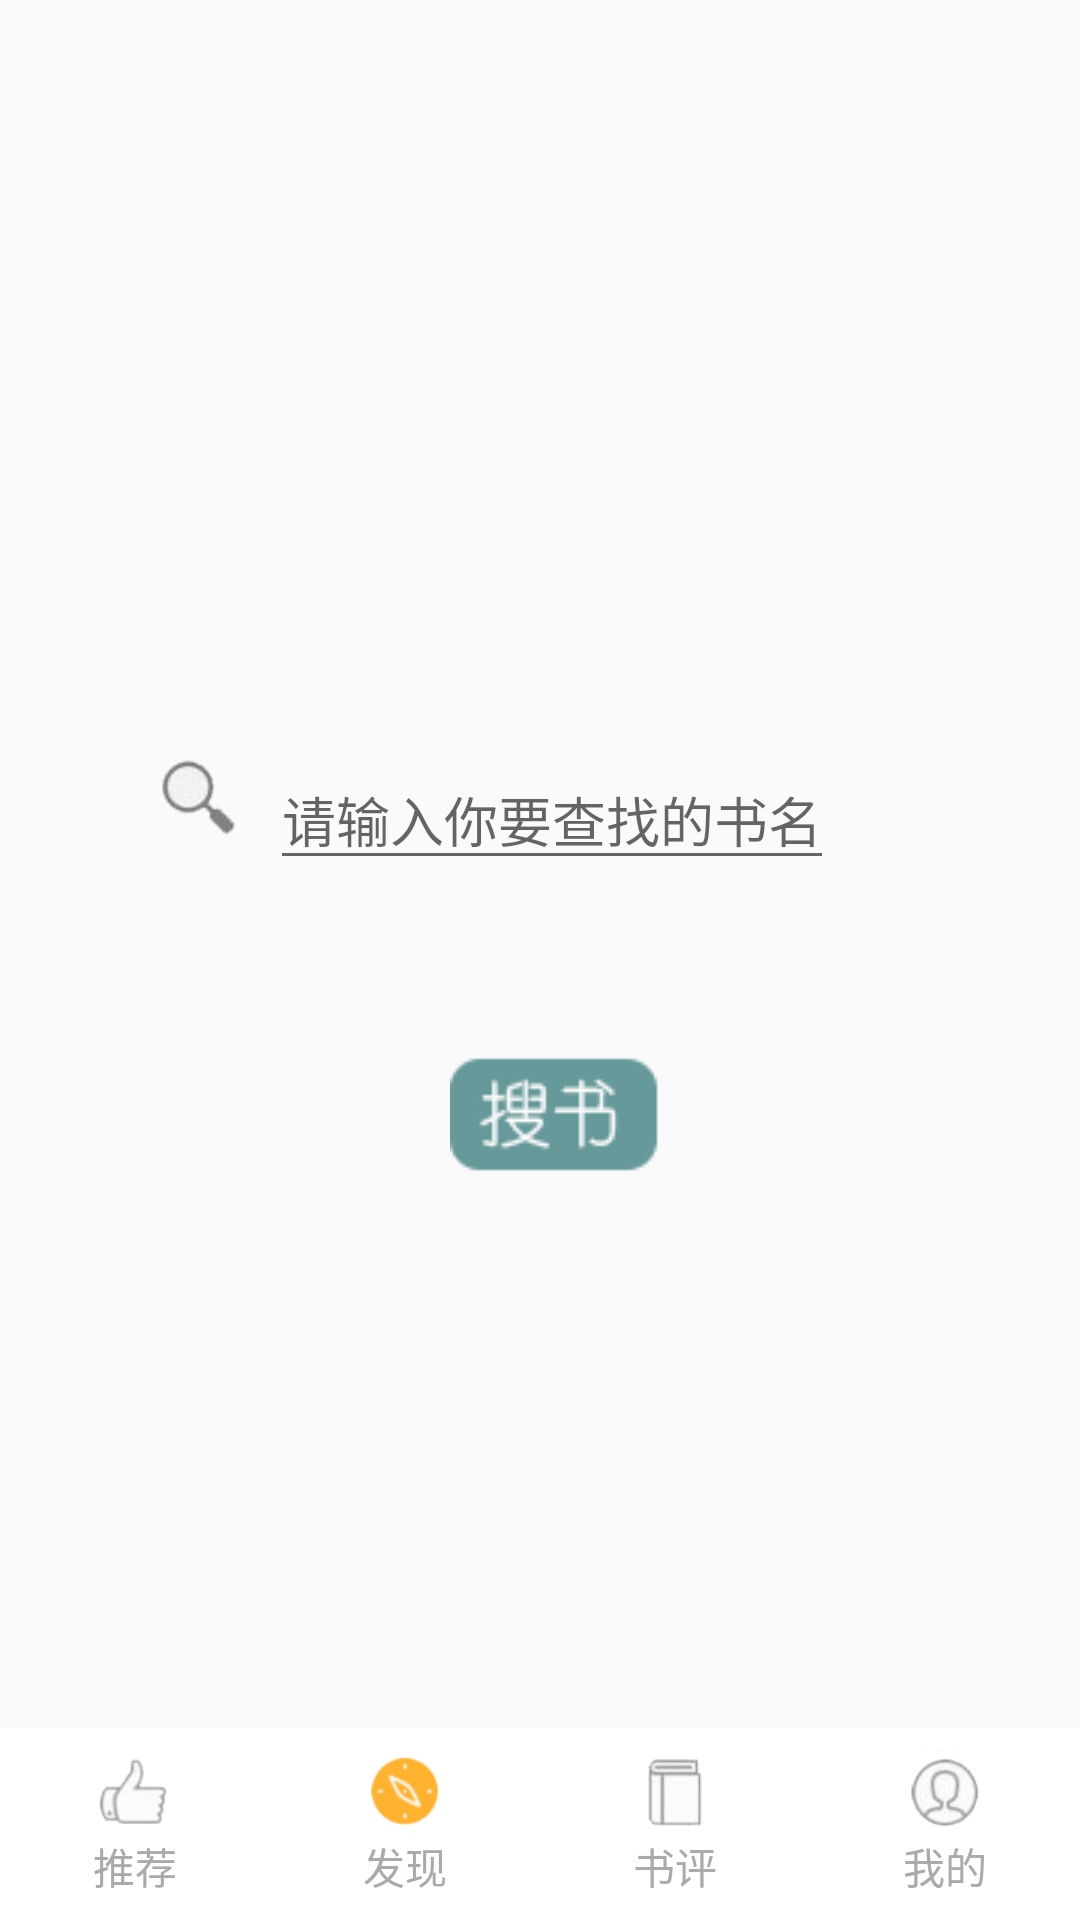

Icon click points for this 1080px×1920px phone screenshot, format point (x, y):
search: point (198, 797)
